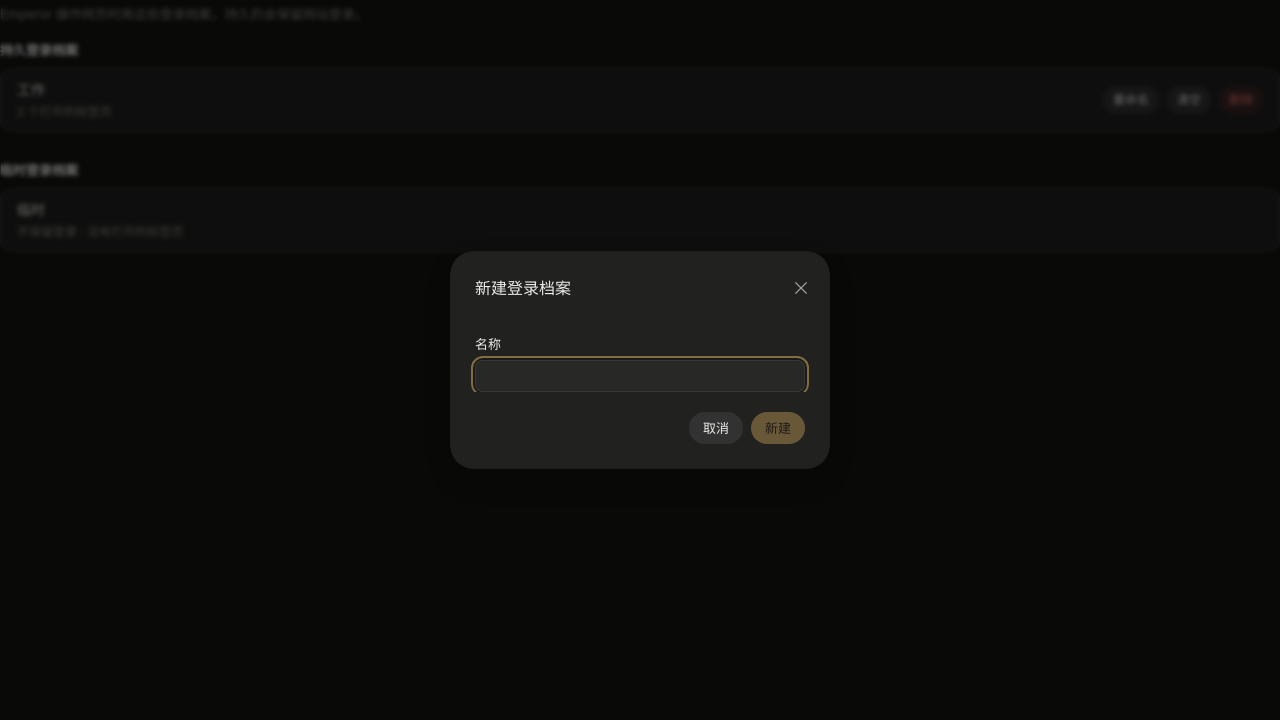
登录状态 › keeps the dialog open with the reason when saving fails
In the field labelled "名称": coordinates (640, 376) [485, 360, 795, 392], type "工作"
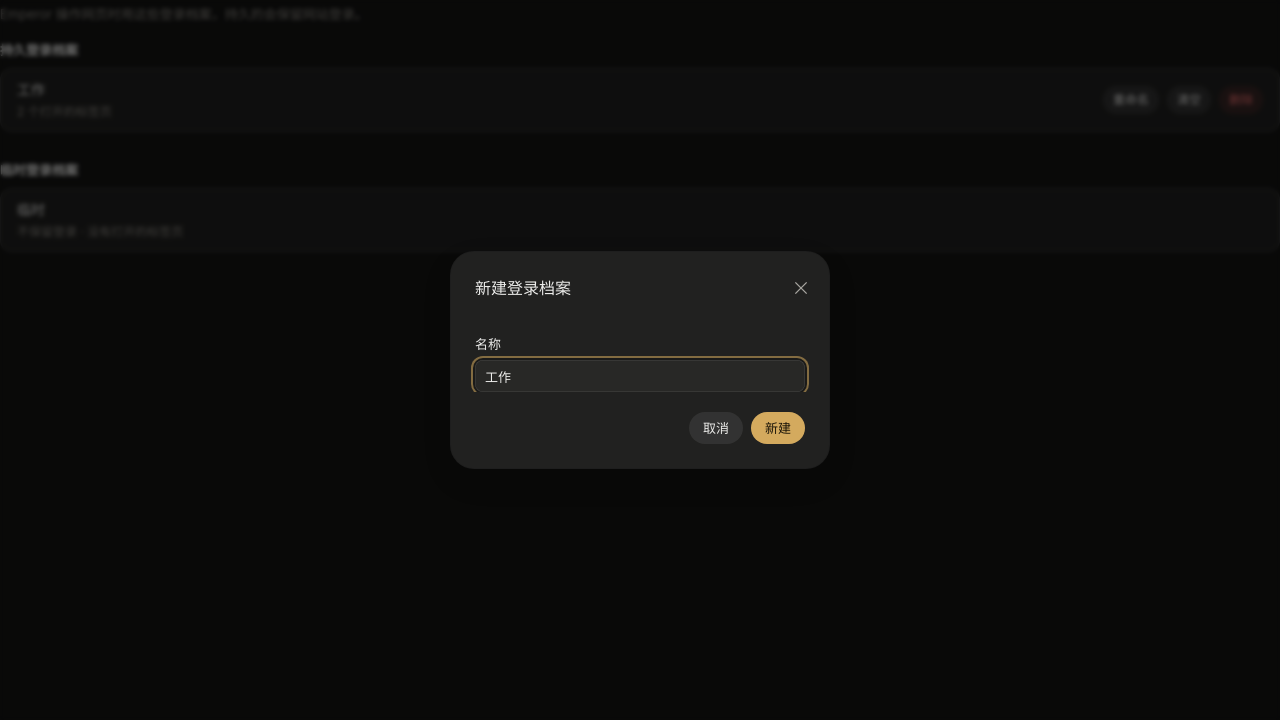
Submit the form, box [475, 334, 805, 392]
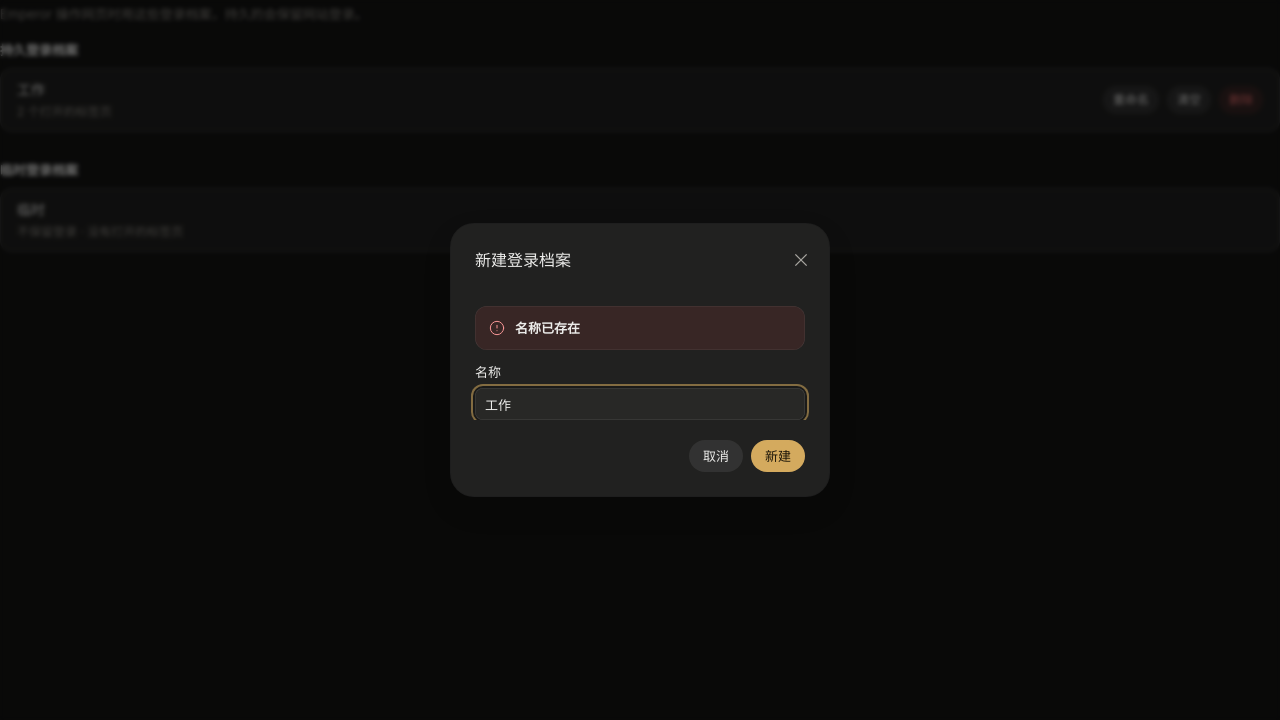
Result: the message "名称已存在" is shown at [475, 306, 805, 350]
